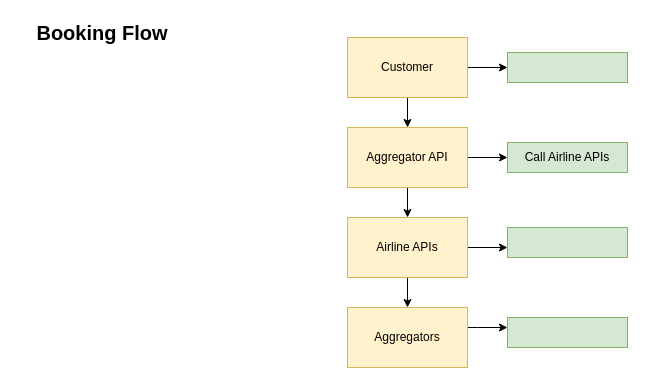
Some shapes in this 645 by 385 pixel diagram are drawn without their labels. The shapes that lost their labels are listed below. From the top down, each one's centre as x and y in pixels, then its label:
At pixel 567 67: "Search Flight".
At pixel 567 242: "Returns Flight".
At pixel 567 332: "Return Results".
